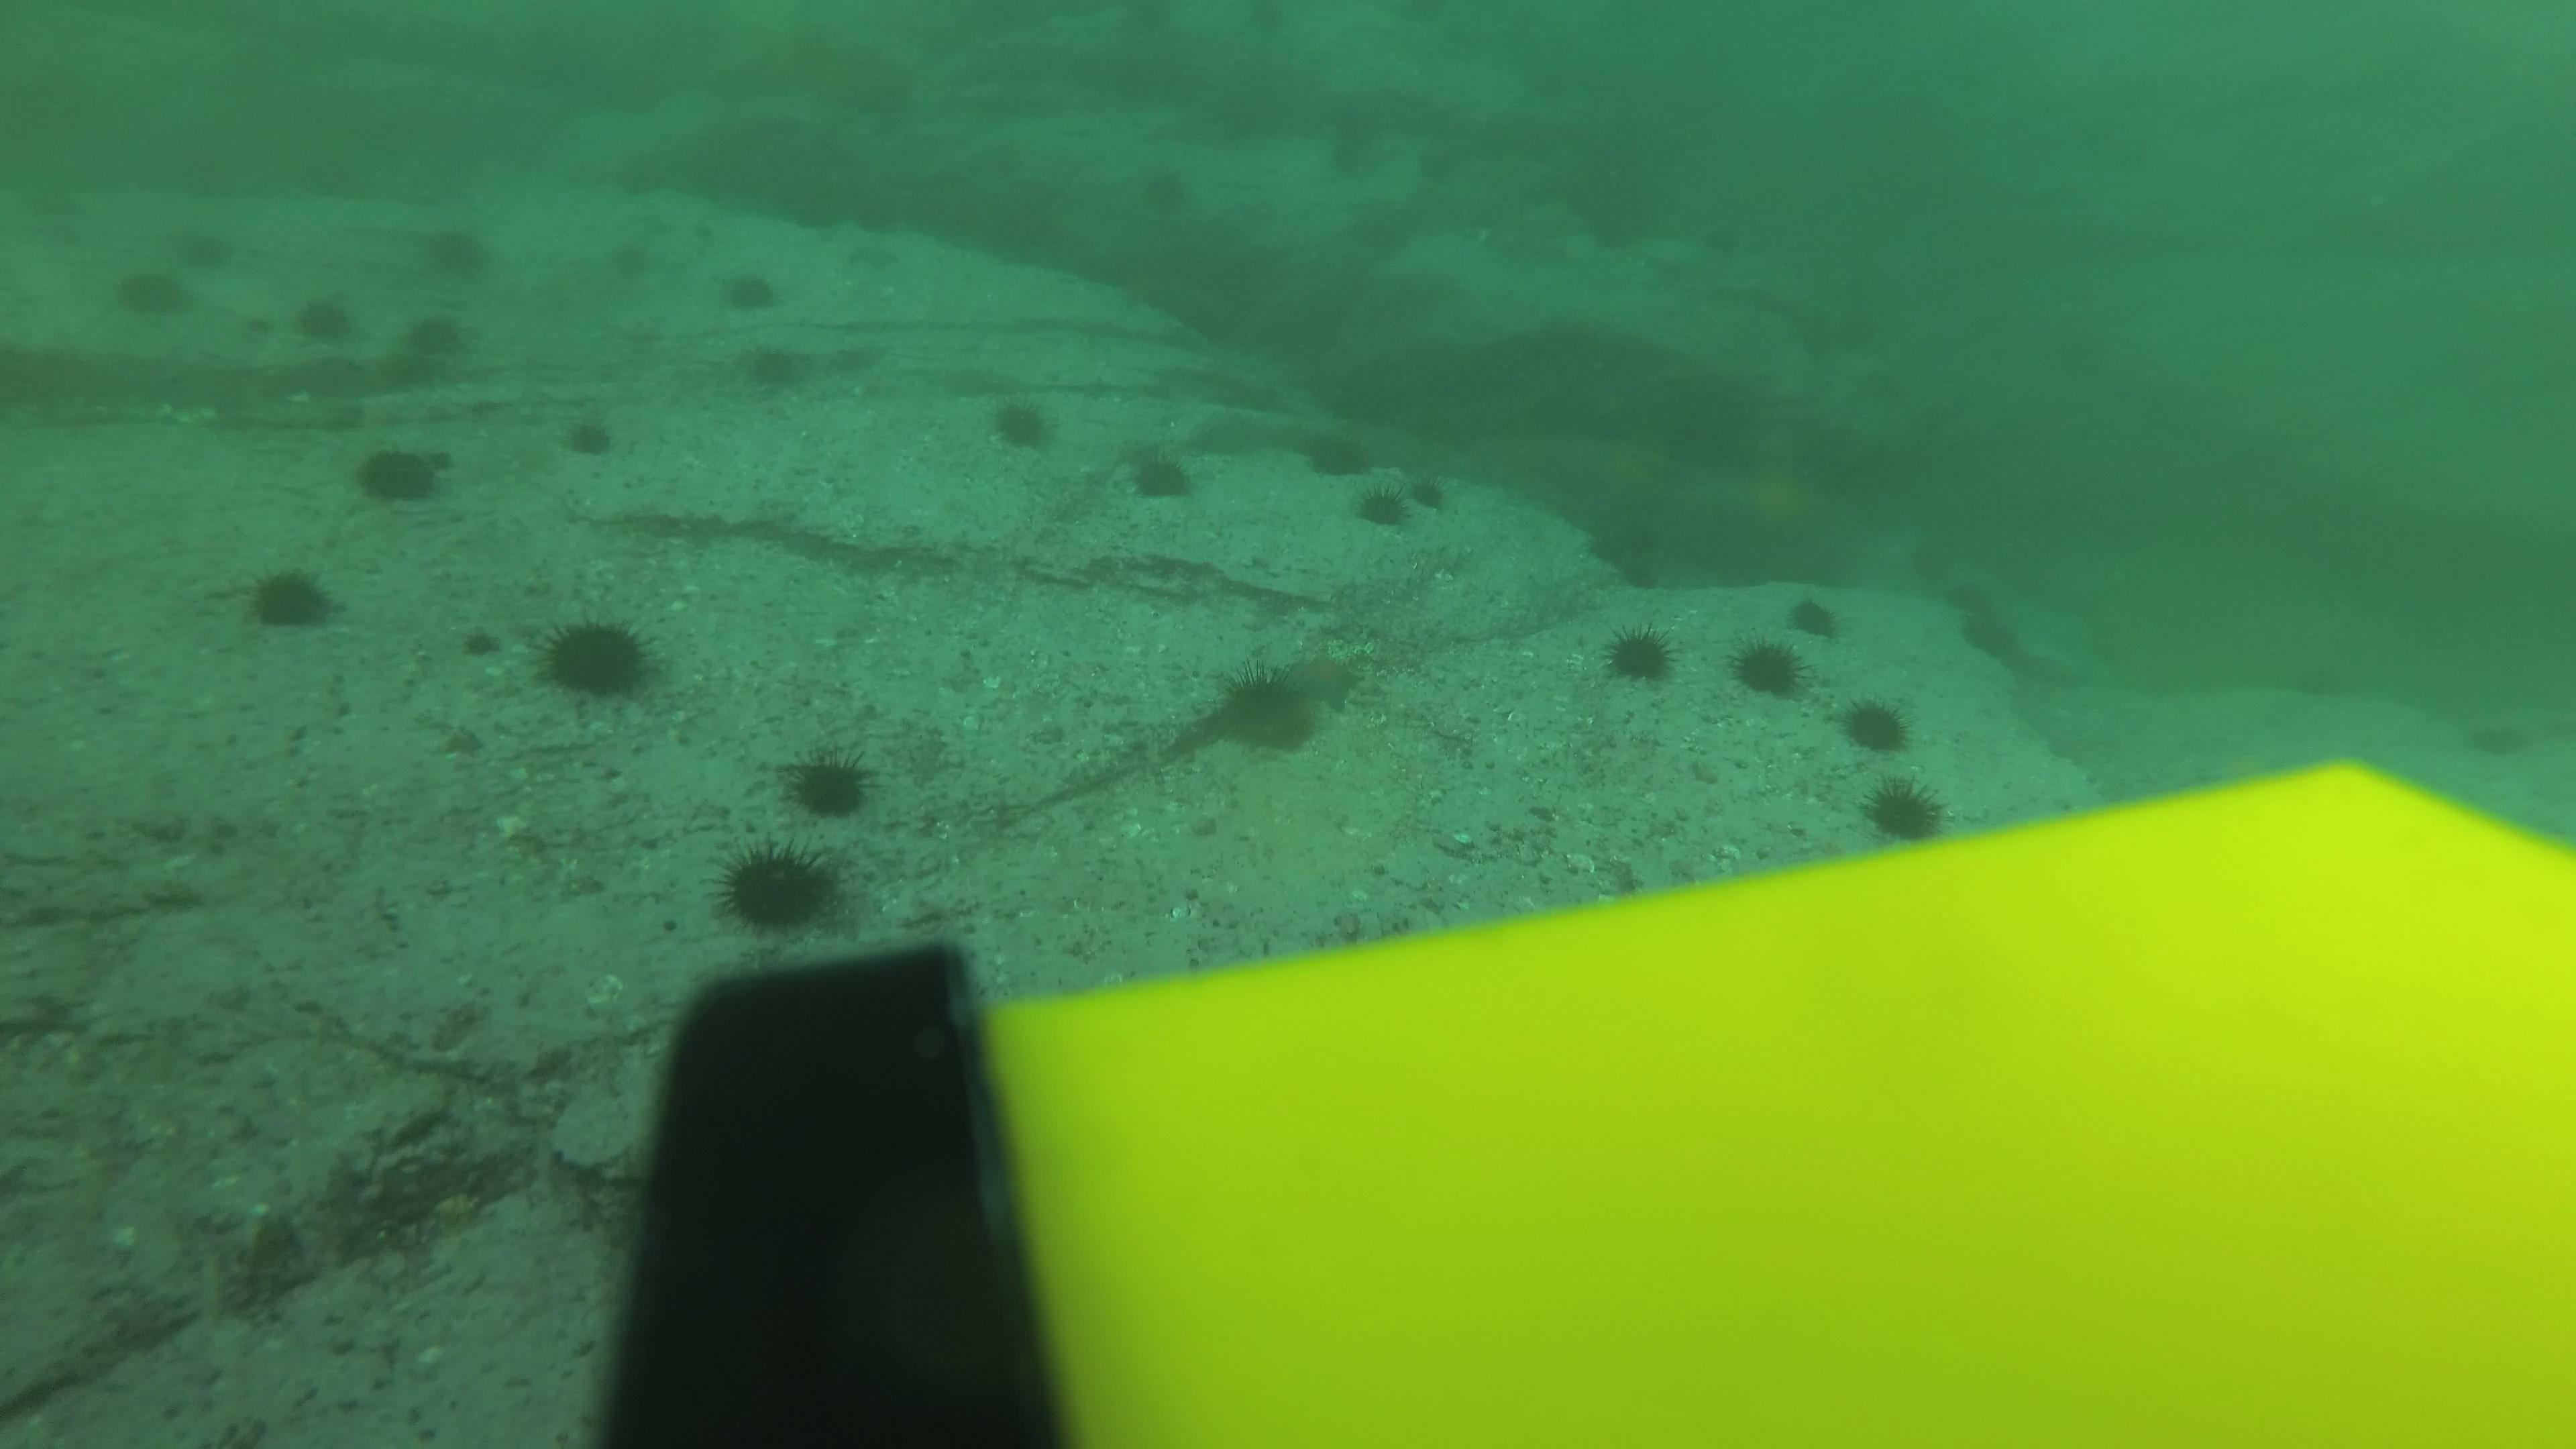echinus: (1200, 658, 1330, 761), (715, 839, 844, 938), (533, 610, 660, 708), (780, 741, 878, 824), (239, 559, 340, 639), (350, 435, 453, 511), (1859, 773, 1951, 847), (106, 257, 196, 327), (391, 308, 474, 380), (1598, 617, 1679, 690), (1729, 632, 1810, 702), (416, 216, 497, 287), (1120, 441, 1201, 508), (982, 389, 1060, 456), (1838, 692, 1913, 757), (1297, 423, 1375, 483), (288, 287, 361, 350), (717, 260, 784, 318), (740, 340, 809, 396), (1348, 479, 1410, 534), (561, 409, 619, 464), (1138, 157, 1200, 209), (1783, 591, 1844, 642), (177, 223, 234, 272), (1957, 610, 2010, 658), (2289, 660, 2342, 708), (2477, 711, 2530, 757), (1943, 573, 1996, 619), (1907, 541, 1960, 587), (596, 239, 653, 278), (1403, 464, 1453, 508), (1322, 142, 1375, 179), (1412, 145, 1463, 182), (1334, 111, 1387, 147), (1619, 515, 1660, 556), (1582, 525, 1624, 564), (1617, 552, 1658, 591)
starfish: (1269, 644, 1369, 717), (840, 225, 904, 280)
